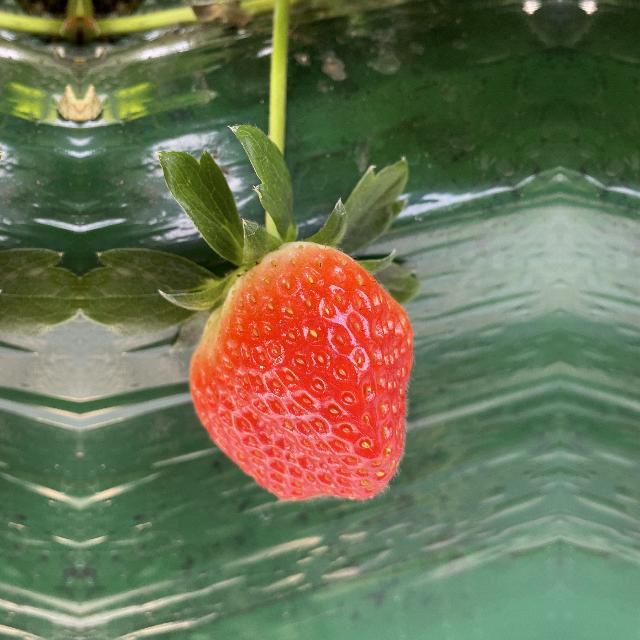Health_100: (166, 232, 424, 506)
